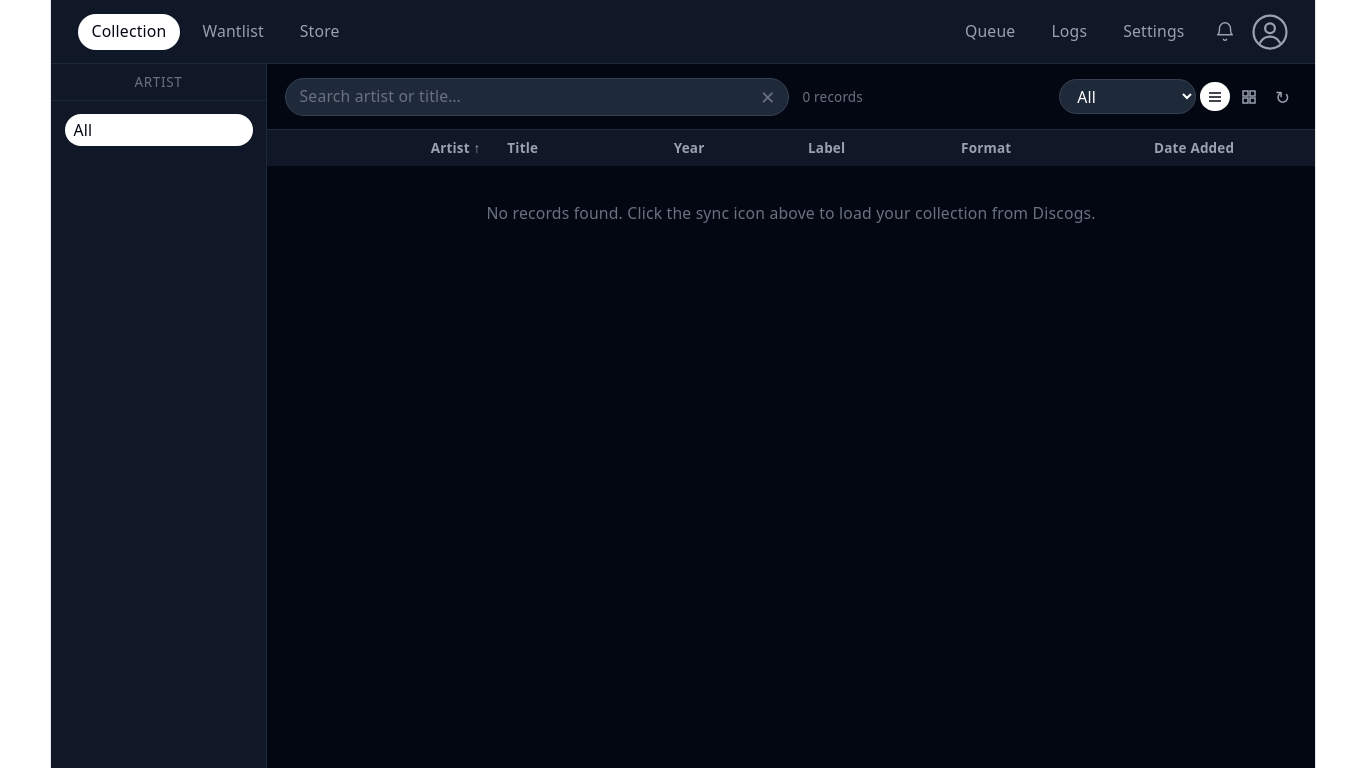
Test: In Stock tab › lets a price refresh report its own outcome when a silent stock claim is taken behind it
Click the button "Settings".
click(1154, 32)  # box x1=1110 y1=14 x2=1198 y2=50
(page scrolled)
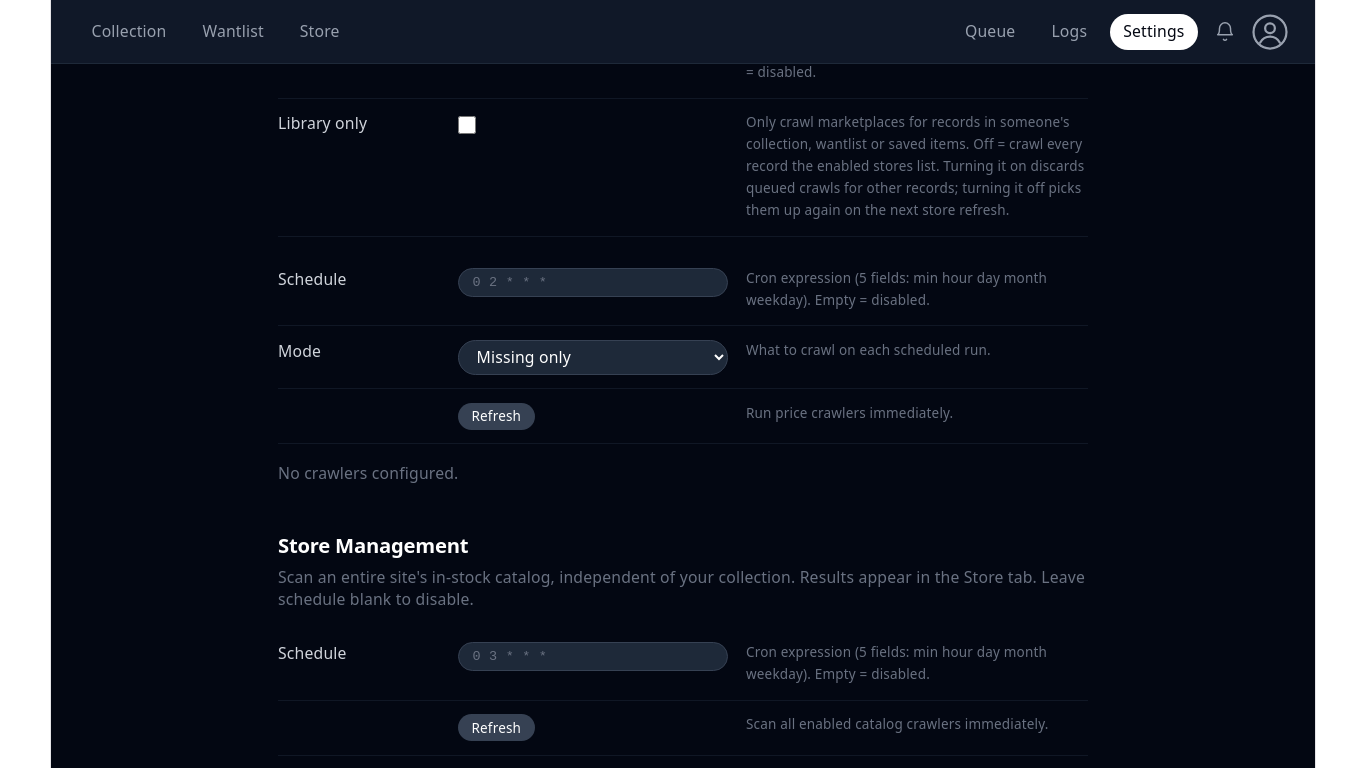
Click the button "Refresh" in the row of "Run price crawlers immediately.".
click(496, 416)  # box x1=458 y1=403 x2=535 y2=430
(page scrolled)
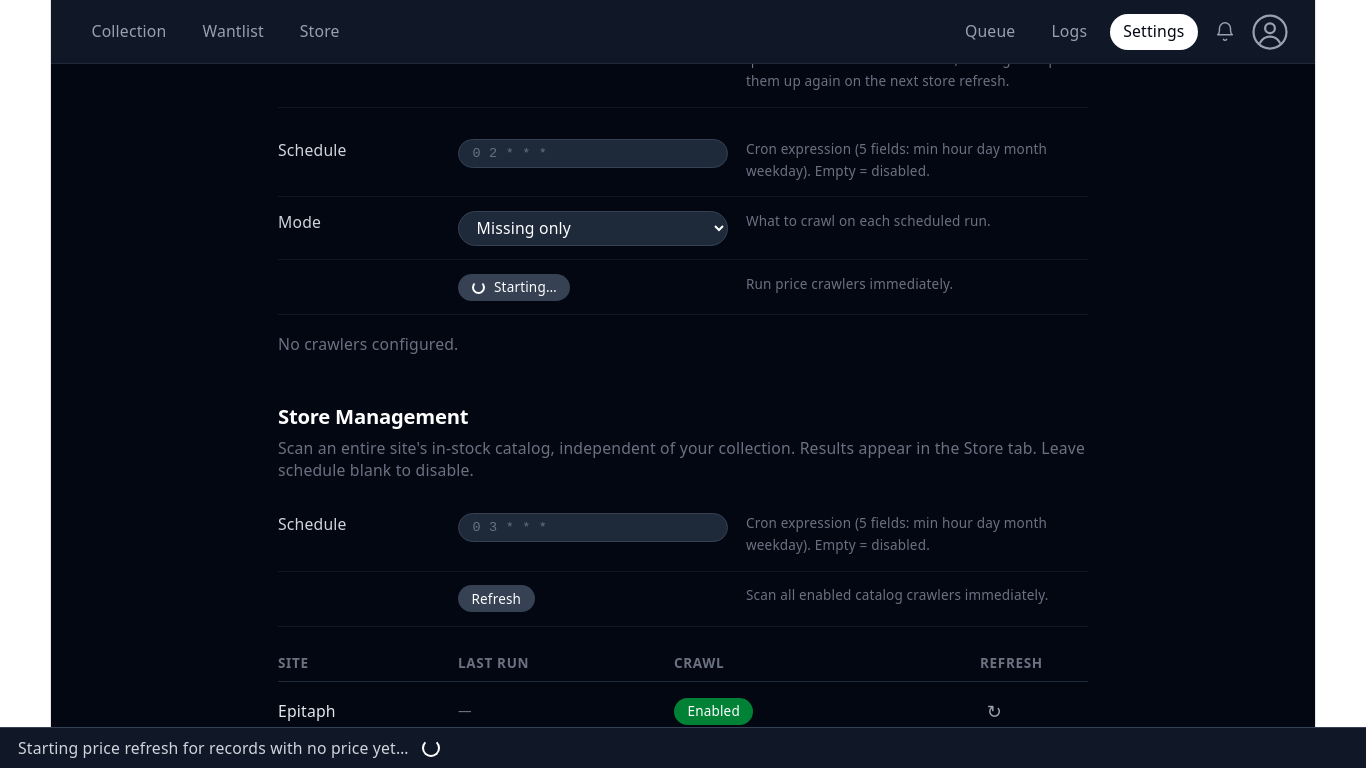
Expected: the text "Starting price refresh for records with no price yet…" is shown, x1=18 y1=736 x2=409 y2=759
Click the button titled "Refresh Epitaph catalog now".
click(994, 711)  # box x1=980 y1=695 x2=1009 y2=727
Wait 20000 ms
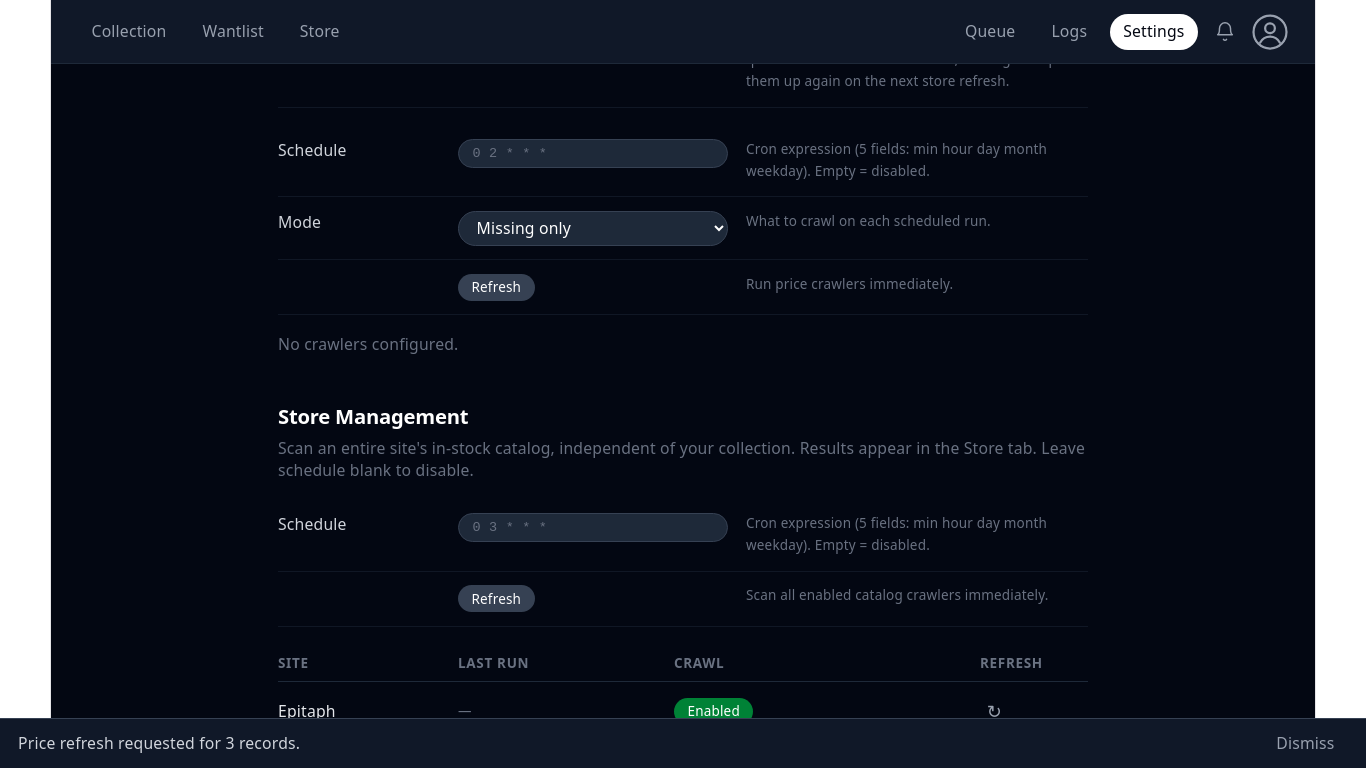
Expected: the text "Price refresh requested for 3 records." is shown, x1=18 y1=732 x2=300 y2=754
Expected: the text "Starting price refresh for records with no price yet…" is gone
Expected: the button "Dismiss" is shown, x1=1263 y1=728 x2=1348 y2=759
